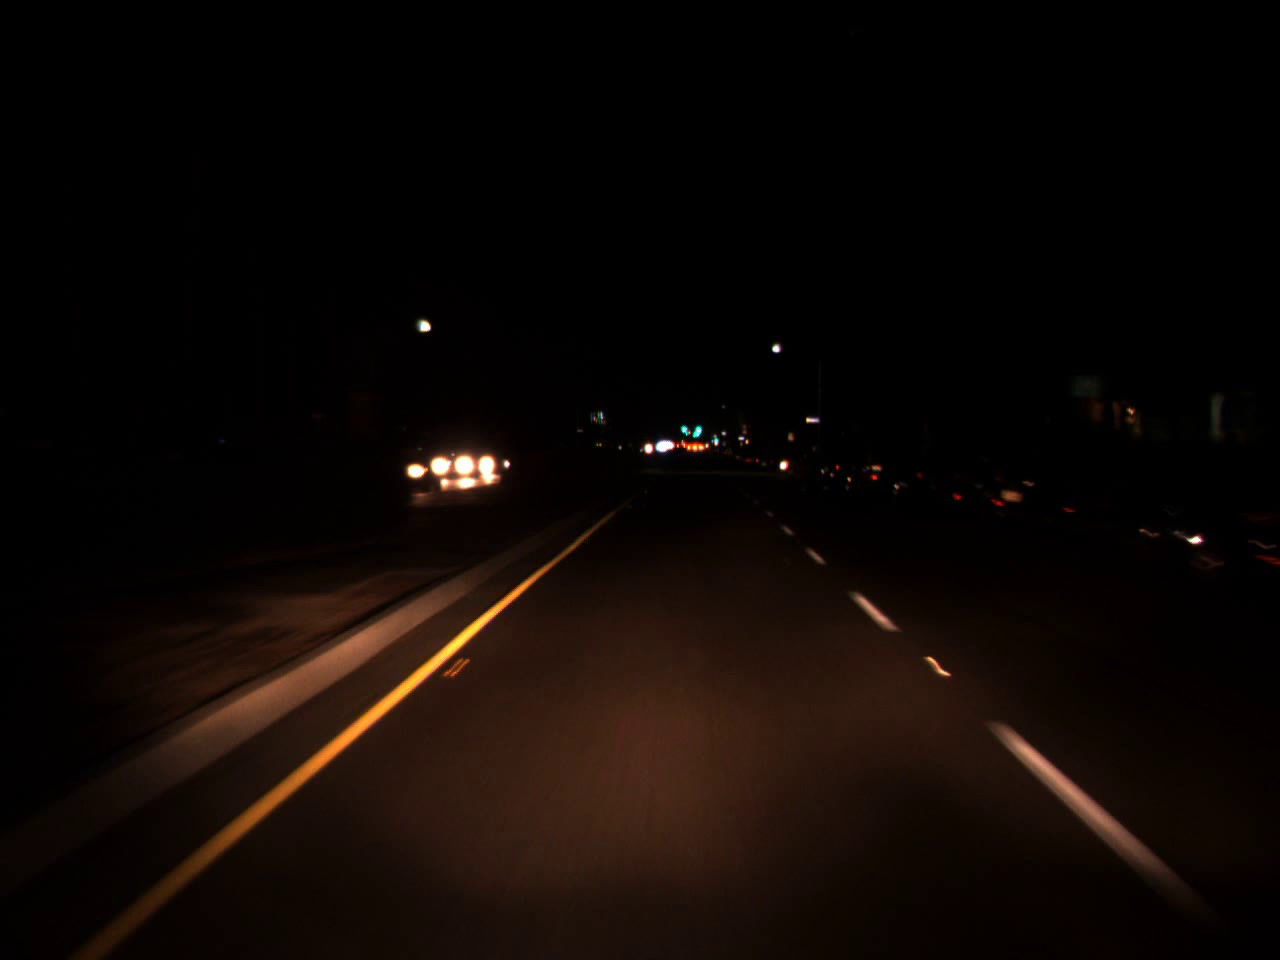go: (690, 412, 702, 442), (677, 417, 689, 435), (713, 432, 720, 444)
